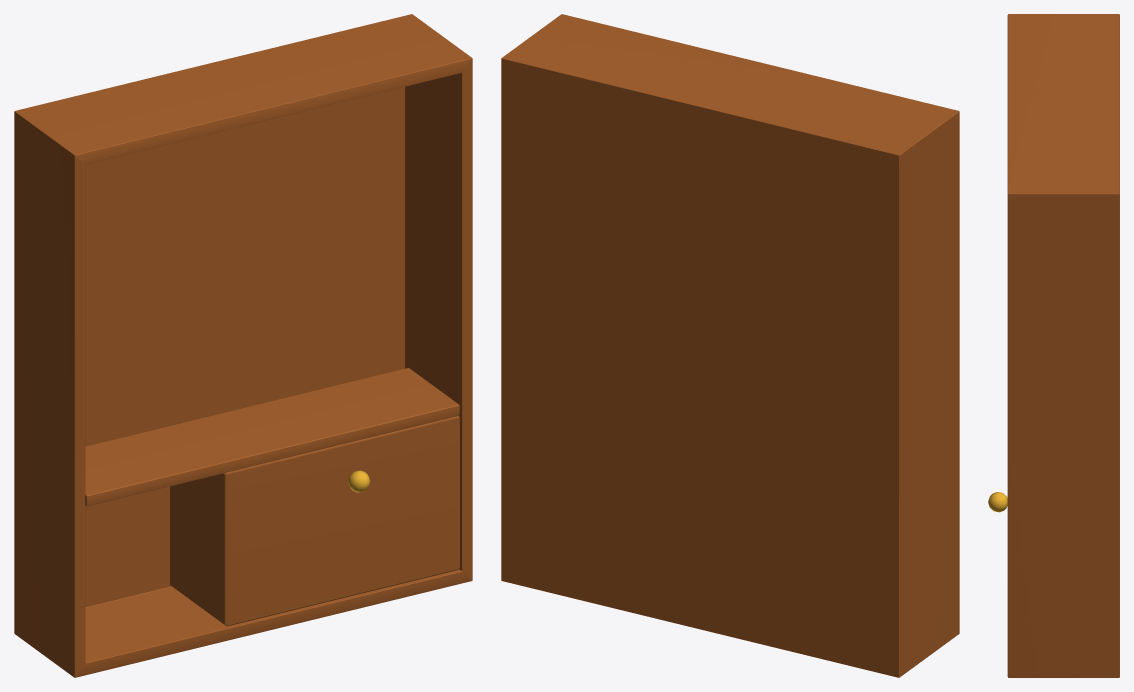
File: bookshelf2.fbx
The picture shows the model from 3 angles, left to right: view 1: azimuth 30°, elevation 25°; view 2: azimuth 150°, elevation 25°; view 3: azimuth 270°, elevation 25°; orthographic projection. The views are drawn at different scales.
Parts seen in each view (by area): view 1: group34_pCube41; view 2: group34_pCube41; view 3: group34_pCube41.
Part boxes in pixels (x1,y1,x2,y2): group34_pCube41: (14, 14, 472, 677); group34_pCube41: (501, 14, 959, 677); group34_pCube41: (988, 14, 1119, 677).
Size of the model in its own units: 175 by 220 by 54.29.
